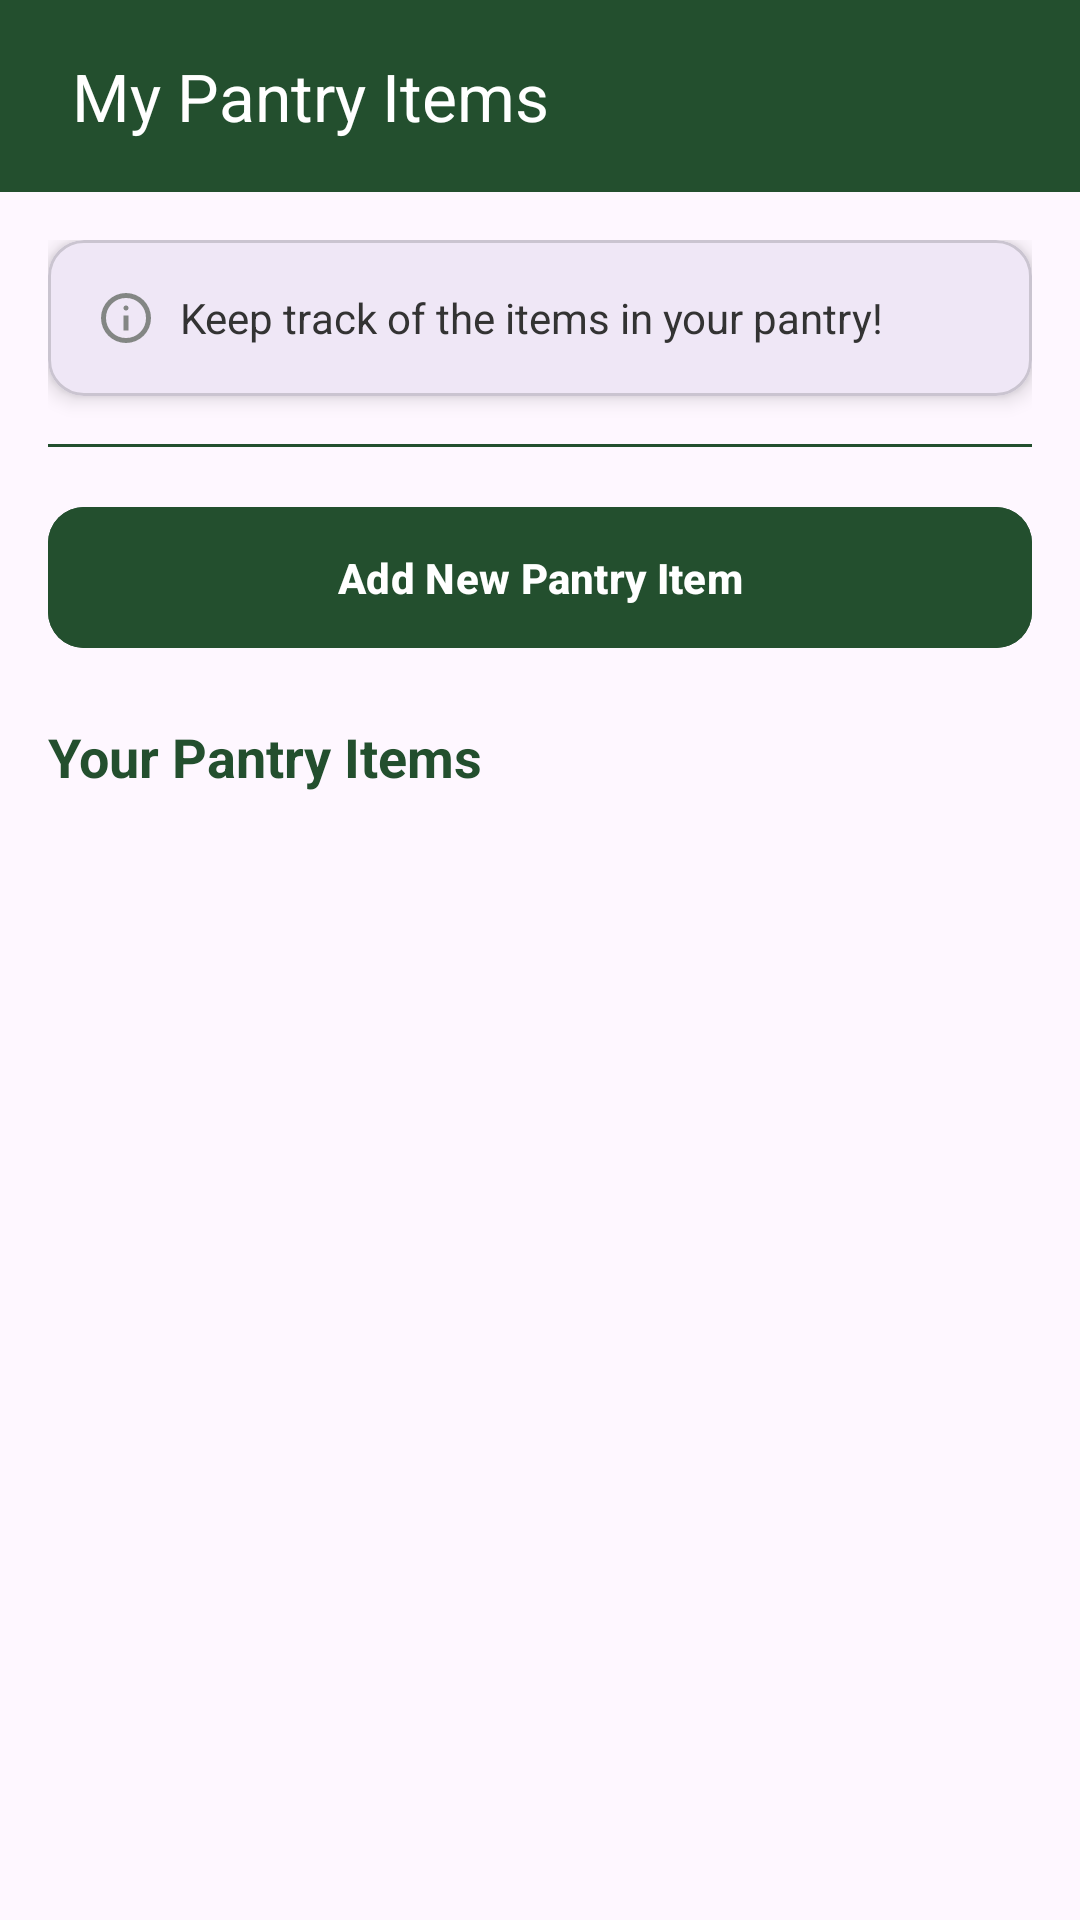

Icon click points for this 1080 x 1920 phone screenshot, format (x=x, y=y):
info: (x=126, y=318)
